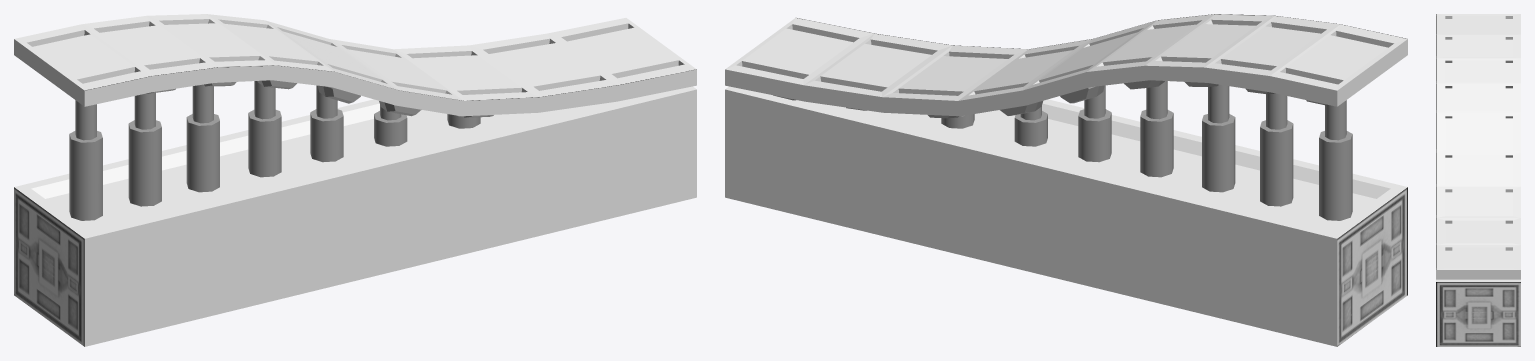
File: Ramp1.fbx
The picture shows the model from 3 angles, left to right: view 1: azimuth 30°, elevation 25°; view 2: azimuth 150°, elevation 25°; view 3: azimuth 270°, elevation 25°; orthographic projection. The views are drawn at different scales.
Visible parts, largest first — view 1: polySurface490; view 2: polySurface490; view 3: polySurface490.
Part boxes in pixels (x1,y1,x2,y2): polySurface490: (14,14,696,346); polySurface490: (725,14,1407,346); polySurface490: (1436,14,1520,346).
Bounding box in the file's own units: 5 × 2 × 1.
